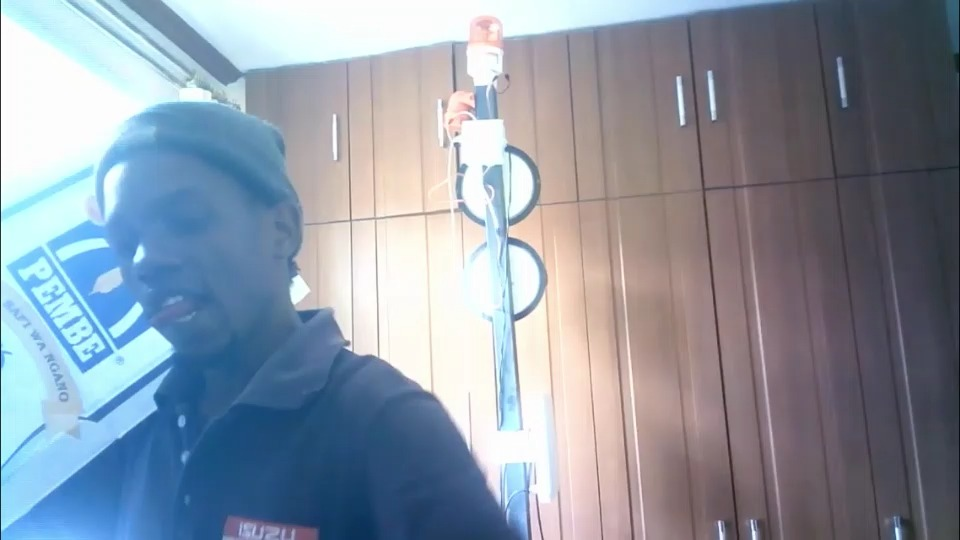maize_flour_green_label: (0, 130, 305, 540)
